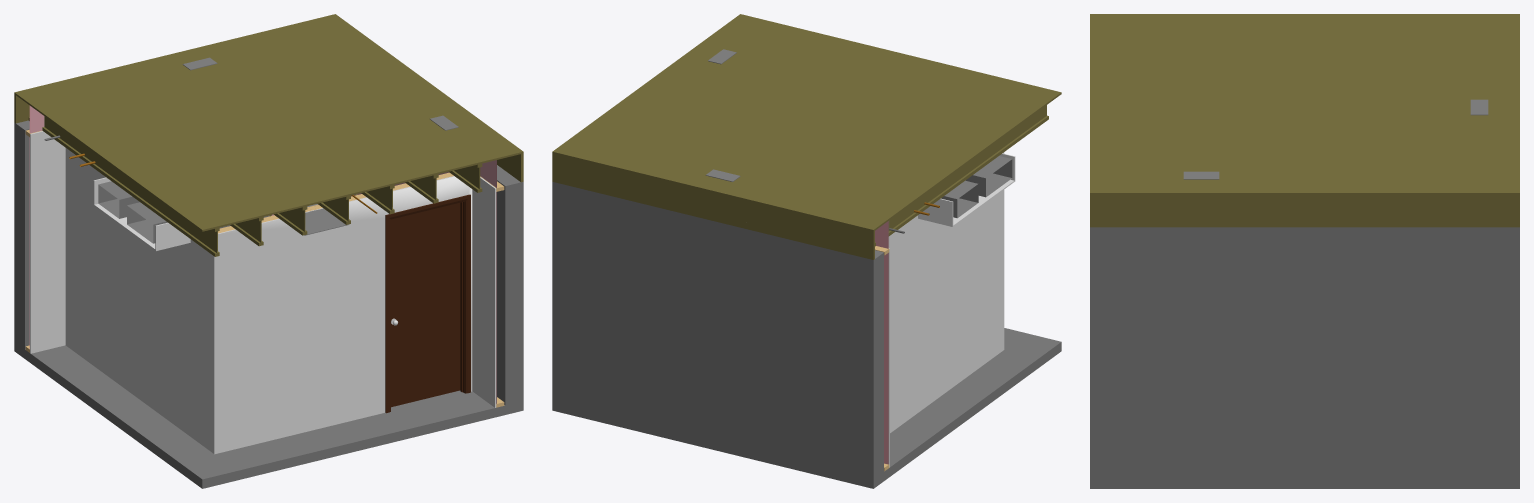
File: Furnace_Room.fbx
The picture shows the model from 3 angles, left to right: view 1: azimuth 30°, elevation 25°; view 2: azimuth 150°, elevation 25°; view 3: azimuth 270°, elevation 25°; orthographic projection. The views are drawn at different scales.
Visible parts, largest first — view 1: Part [390604], Part [369089], Part [633079], Door Single Swing Stop Solid Type 1 [345809], Floor Concrete Slab - 4" [296054], Part [369083], Basic Wall Generic - 8" [282335], Part [369085], Basic Wall Generic - 8" [282334], Trus_Joist-Weyerhaeuser-TJI TJI. 210 - 11 7/8 [641306], Bulkhead Bulkhead [650141], Rectangular Duct Default [620029] (+6 smaller); view 2: Basic Wall Generic - 8" [282334], Part [390604], Part [633079], Trus_Joist-Weyerhaeuser-Rim_Board_Material TJ® Rim Boa_c15a6, Floor Concrete Slab - 4" [296054], Trus_Joist-Weyerhaeuser-TJI TJI. 210 - 11 7/8 [641306], Insulation_Fiber Glass_02, Bulkhead Bulkhead [650141], Rectangular Duct Default [620029], Rectangular Duct Default [630897]; view 3: Basic Wall Generic - 8" [282335], Part [390604], Trus_Joist-Weyerhaeuser-Rim_Board_Material TJ® Rim Boa_85c27, Basic Wall Generic - 8" [282334].
Boxes of the visible parts, box(x1,y1,x2,y2) form: Part [390604]: box(14, 14, 523, 231); Part [369089]: box(213, 176, 472, 454); Part [633079]: box(65, 148, 213, 453); Door Single Swing Stop Solid Type 1 [345809]: box(385, 194, 470, 413); Floor Concrete Slab - 4" [296054]: box(25, 345, 505, 488); Part [369083]: box(30, 131, 65, 353); Basic Wall Generic - 8" [282335]: box(497, 165, 523, 414); Part [369085]: box(472, 177, 496, 407); Basic Wall Generic - 8" [282334]: box(14, 120, 29, 358); Trus_Joist-Weyerhaeuser-TJI TJI. 210 - 11 7/8 [641306]: box(28, 116, 219, 256); Bulkhead Bulkhead [650141]: box(93, 177, 190, 250); Rectangular Duct Default [620029]: box(127, 202, 167, 243); Basic Wall Generic - 8" [282334]: box(552, 182, 883, 488); Part [390604]: box(552, 14, 1061, 231); Part [633079]: box(888, 153, 1003, 432); Trus_Joist-Weyerhaeuser-Rim_Board_Material TJ® Rim Boa_c15a6: box(552, 153, 874, 259); Floor Concrete Slab - 4" [296054]: box(884, 328, 1061, 480); Trus_Joist-Weyerhaeuser-TJI TJI. 210 - 11 7/8 [641306]: box(875, 105, 1048, 246); Insulation_Fiber Glass_02: box(875, 221, 888, 464); Bulkhead Bulkhead [650141]: box(918, 153, 1015, 226); Rectangular Duct Default [620029]: box(965, 156, 1012, 197); Rectangular Duct Default [630897]: box(941, 180, 978, 218); Basic Wall Generic - 8" [282335]: box(1090, 227, 1495, 488); Part [390604]: box(1090, 14, 1519, 194); Trus_Joist-Weyerhaeuser-Rim_Board_Material TJ® Rim Boa_85c27: box(1090, 195, 1516, 227); Basic Wall Generic - 8" [282334]: box(1496, 227, 1519, 488).
Bounding box in the file's own units: 358 × 277 × 363.
